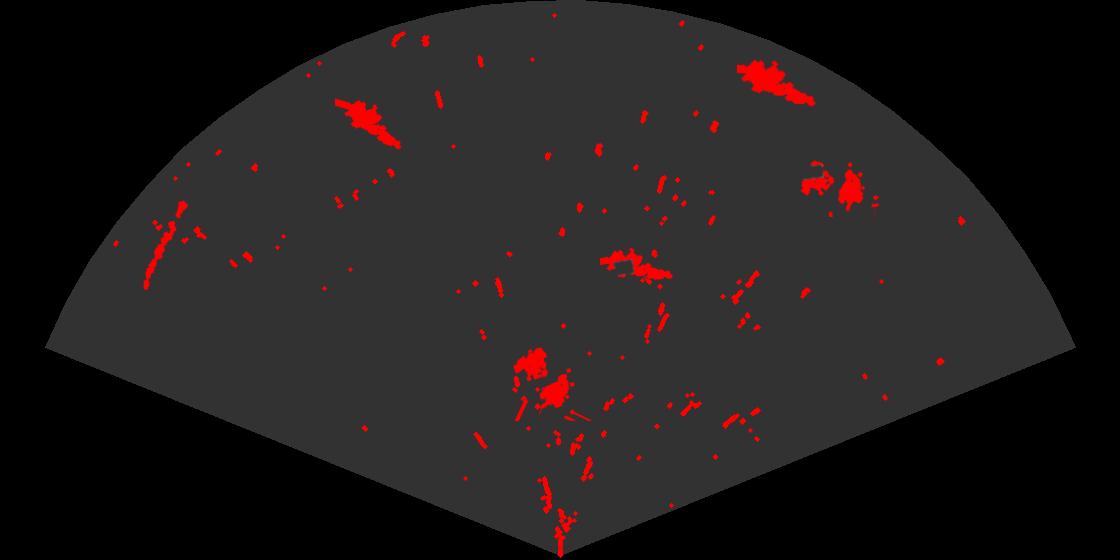cage: (512, 346, 593, 421), (799, 159, 879, 217)
chain: (142, 199, 190, 291)
frogman: (737, 58, 818, 108), (335, 97, 403, 151), (600, 246, 674, 281)
